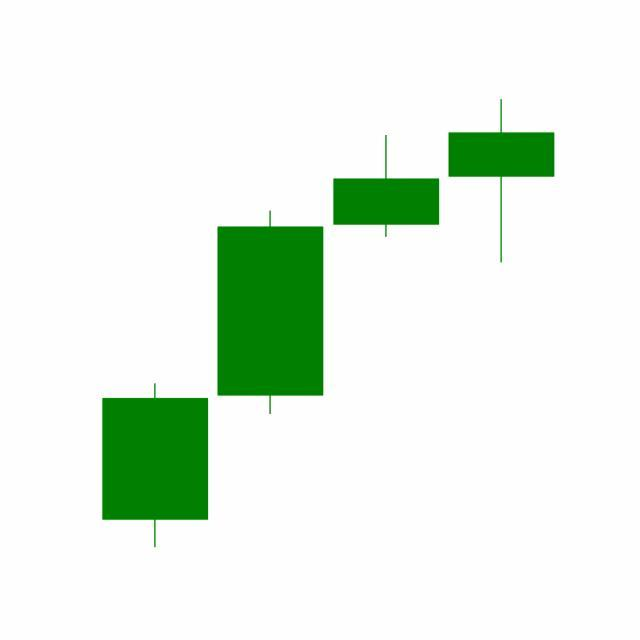Advance Block: (211, 100, 555, 420)
